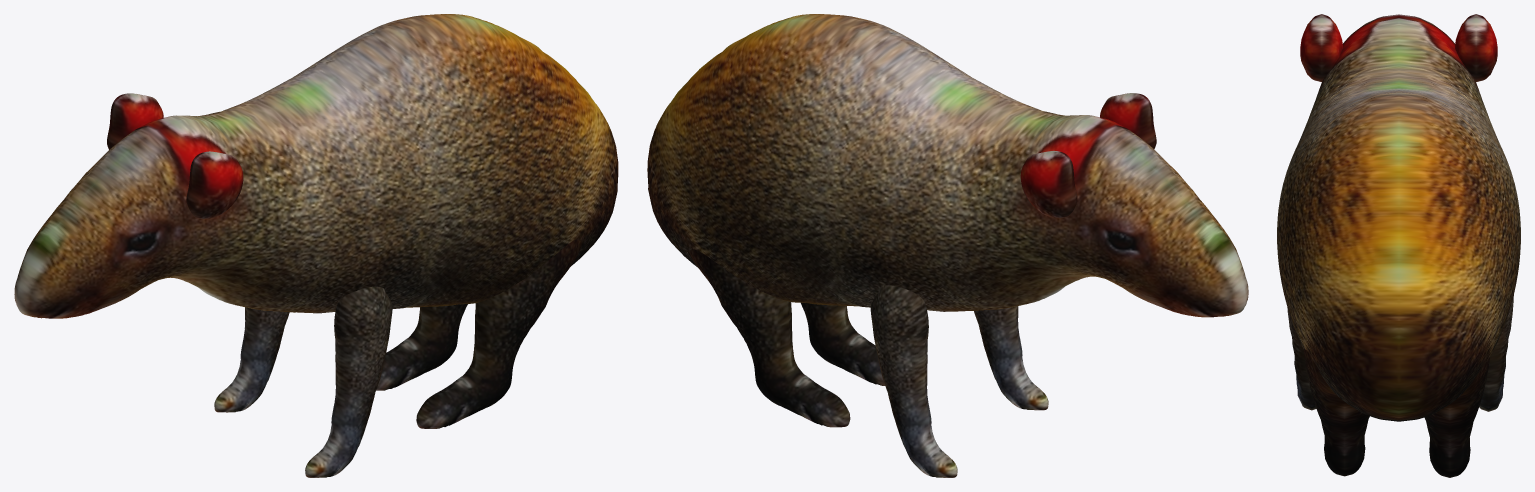
The model's file is ñeque100.glb.
The picture shows the model from 3 angles, left to right: view 1: azimuth 30°, elevation 25°; view 2: azimuth 150°, elevation 25°; view 3: azimuth 270°, elevation 25°; orthographic projection. The views are drawn at different scales.
Visible parts, largest first — view 1: Mesh_0; view 2: Mesh_0; view 3: Mesh_0.
Part boxes in pixels (left/top/right/bottom): Mesh_0: left=14, top=14, right=618, bottom=477; Mesh_0: left=647, top=14, right=1248, bottom=477; Mesh_0: left=1277, top=14, right=1520, bottom=477.
Size of the model in its own units: 7.24 by 4.51 by 2.67.
1 material, 1 textured.
